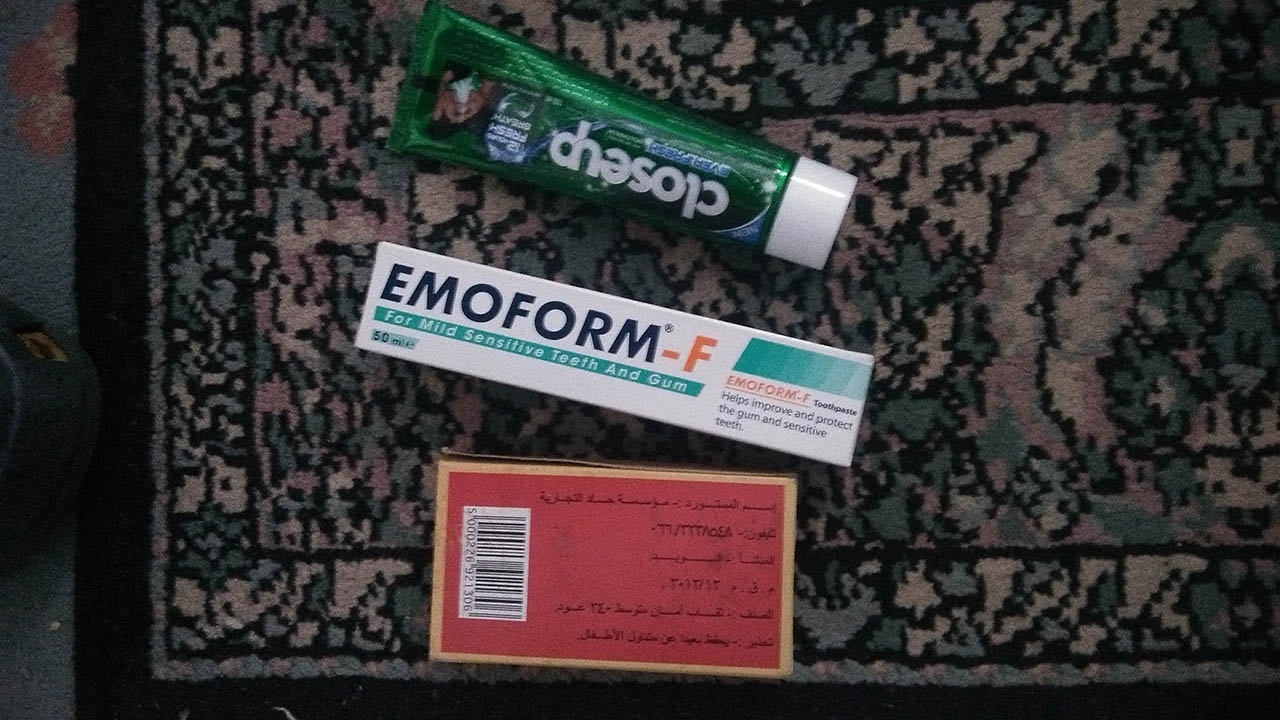Toothpaste-Closeup 3.04$: (379, 1, 850, 279)
Toothpaste-F 1.5$: (331, 227, 869, 470)
match-sticks .90$: (417, 454, 814, 687)
